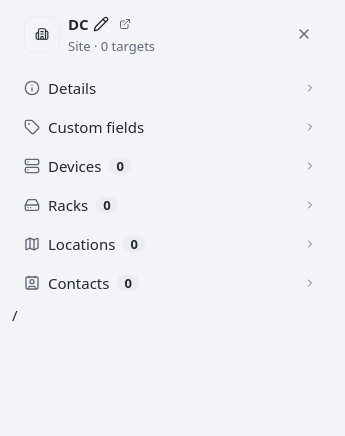
TreeNodeInspector › reveals secret custom fields in the inspector for supported entities
Click the button "Custom fields" at (96, 127), box top-left (12, 108), bottom-right (328, 146)
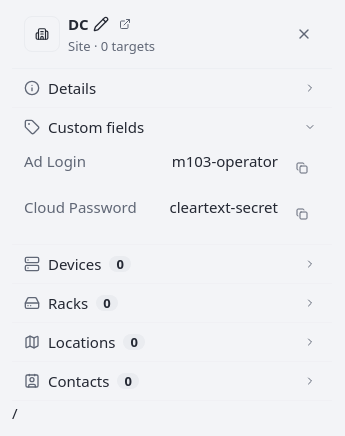
Expected: the text "cleartext-secret" is shown, top-left (154, 196), bottom-right (278, 218)
